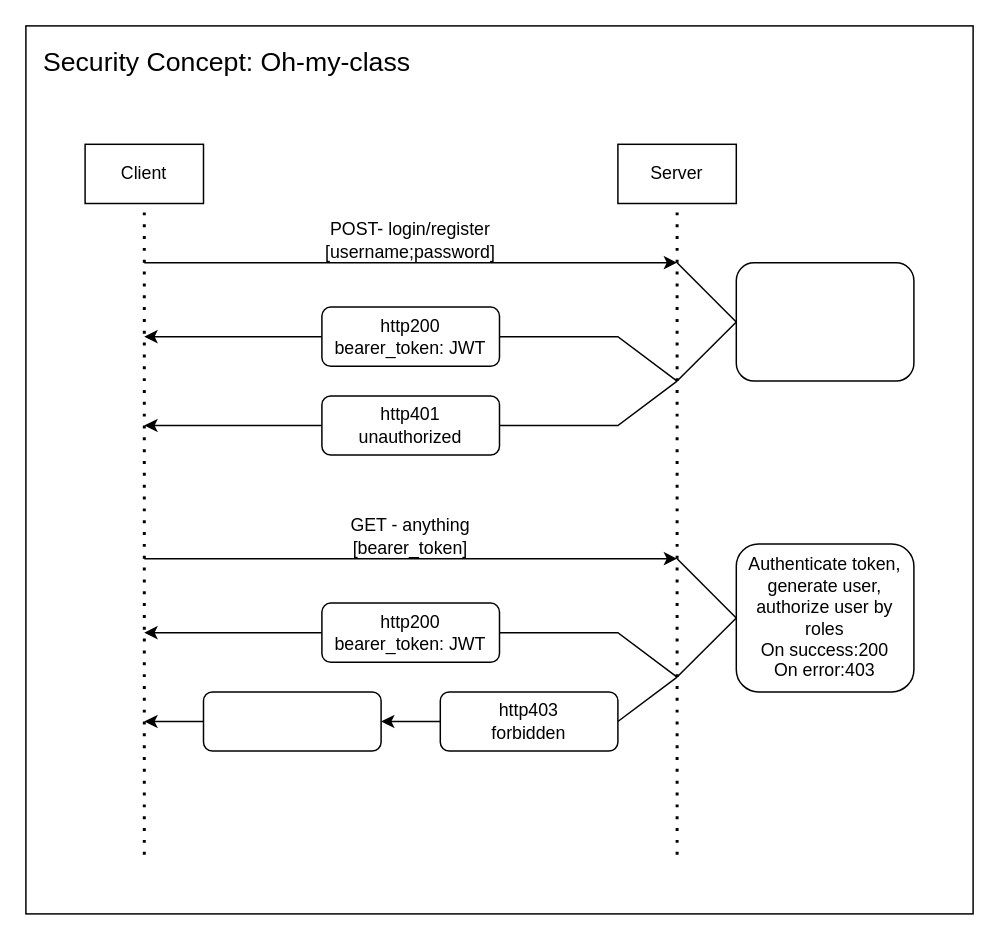
This 999x940 diagram has some shape labels left out. The shapes that lost their labels are listed below. From the top down, each one's centre as x and y in pixels, then its label:
(824,321): Authenticate username & password On success:200 On error:401
(291,720): Transform to http404
